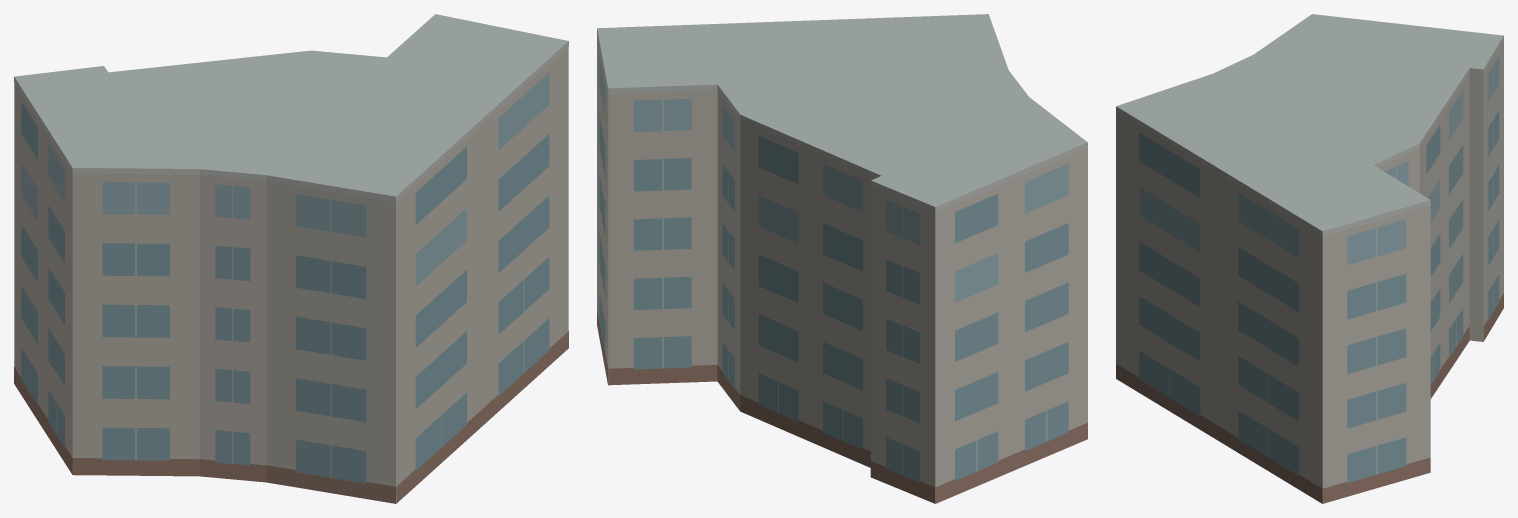
File: survey-upis-32711013.glb
3 views of the same model, side by side, from view 1: azimuth 30°, elevation 25°; view 2: azimuth 150°, elevation 25°; view 3: azimuth 270°, elevation 25° (orthographic). The views are drawn at different scales.
Visible parts, largest first — view 1: survey-upis-32711013.tmp; view 2: survey-upis-32711013.tmp; view 3: survey-upis-32711013.tmp.
Boxes of the visible parts, x1,y1,x2,y2 form: survey-upis-32711013.tmp: [14, 14, 568, 503]; survey-upis-32711013.tmp: [597, 14, 1087, 503]; survey-upis-32711013.tmp: [1116, 14, 1503, 503].
Size of the model in its own units: 22.67 by 13.25 by 17.09.
